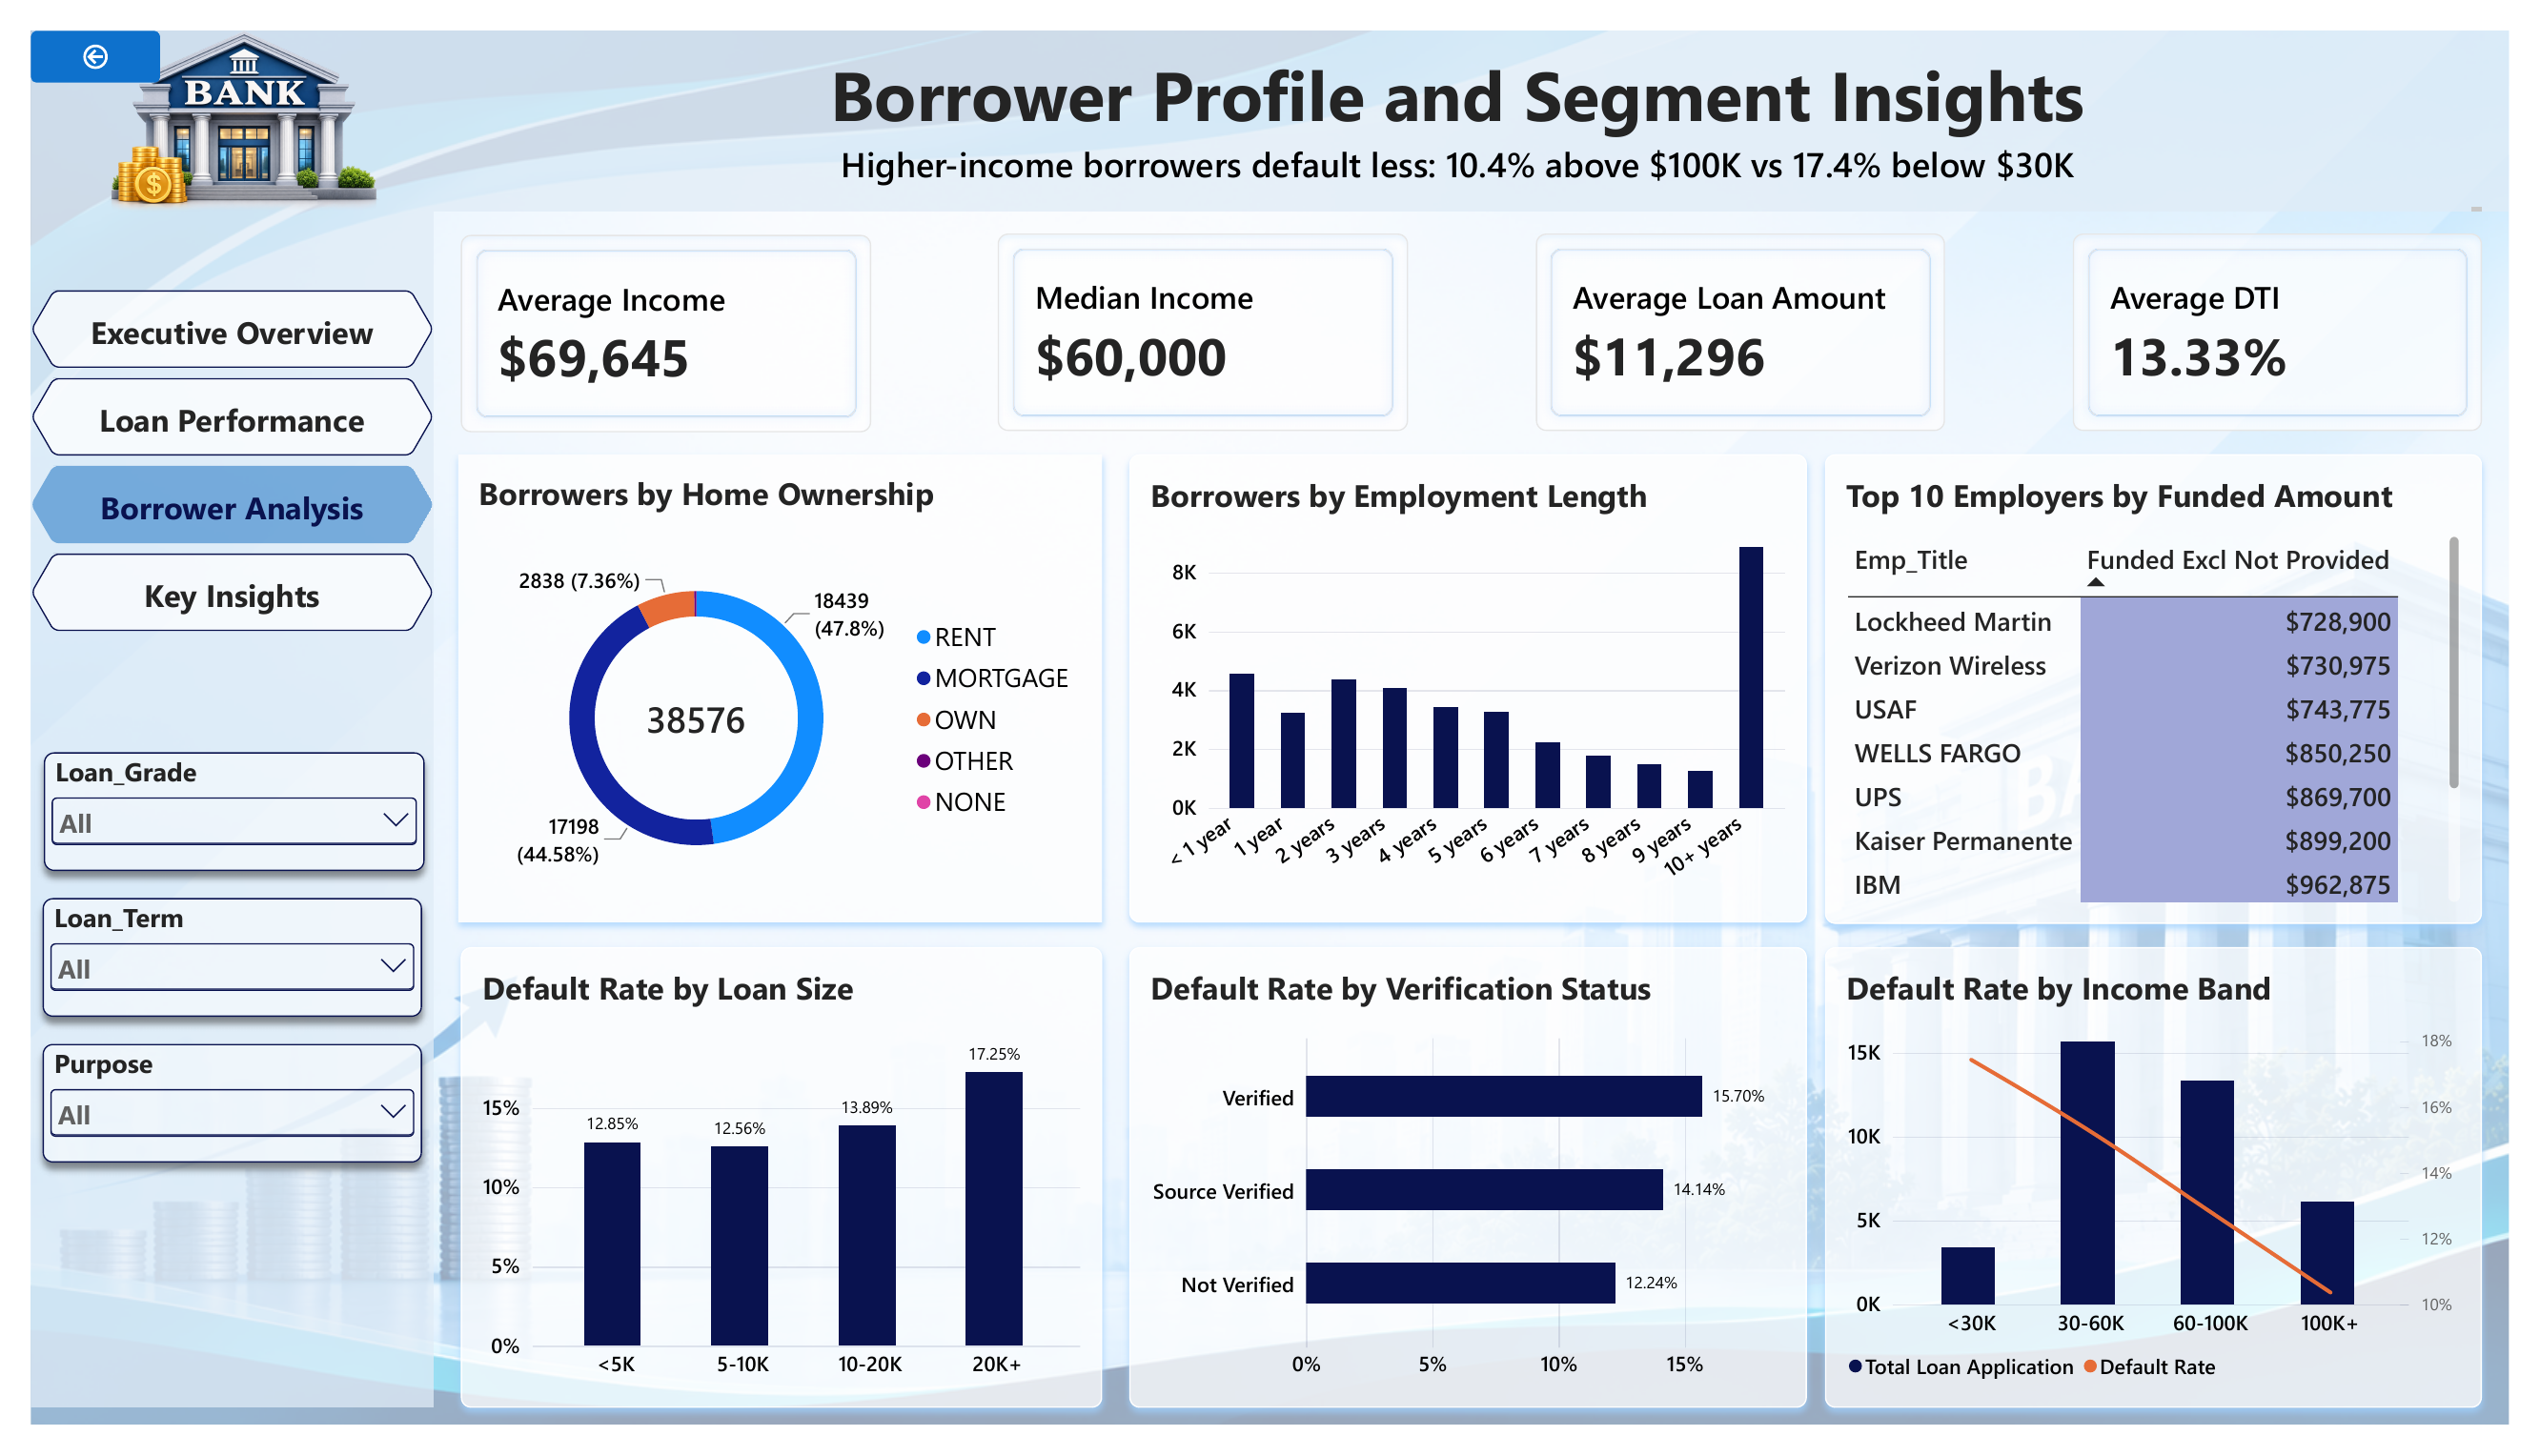

The dashboard page shown, as its layout file describes it:
{"tool":"powerbi","page":{"name":"Borrower Analysis","canvas":[1920,1080],"ordinal":2},"visuals":[{"type":"shape","box":[0,0,1920.4,139.5],"z":0},{"type":"shape","box":[0,139.5,312.2,927.9],"z":1000},{"type":"image","box":[26.2,0,277.3,139.5],"z":5000},{"type":"textbox","title":"Borrower Profile and Segment Insights","box":[312.2,12.2,1587.2,127.3],"z":6000},{"type":"pageNavigator","box":[0,200.6,312.2,266.9],"z":7000},{"type":"cardVisual","fields":{"Data":["Bank_Loan.Average Income"]},"box":[333.1,157.6,317.4,153.5],"z":8000},{"type":"cardVisual","fields":{"Data":["Bank_Loan.Median Income"]},"box":[749.4,157,317.4,153.5],"z":9000},{"type":"cardVisual","fields":{"Data":["Bank_Loan.Average Loan Amount"]},"box":[1165.7,157,317.4,153.5],"z":10000},{"type":"cardVisual","fields":{"Data":["Bank_Loan.Average DTI"]},"box":[1582,157,317.4,153.5],"z":11000},{"type":"lineClusteredColumnComboChart","title":"Default Rate by Income Band","fields":{"Category":["Bank_Loan.Income Band"],"Y":["Bank_Loan.Total Loan Application"],"Y2":["Bank_Loan.Default Rate"]},"box":[1390.1,709.9,509.3,357.6],"z":12000},{"type":"tableEx","title":"Top 10 Employers by Funded Amount","fields":{"Values":["Bank_Loan.Emp_Title","Bank_Loan.Funded Excl Not Provided"]},"box":[1390.1,327.9,509.3,364.5],"z":13000},{"type":"clusteredColumnChart","title":"Borrowers by Employment Length","fields":{"Category":["Bank_Loan.Emp Length Label"],"Y":["CountNonNull(Bank_Loan.Total_Accounts)"]},"box":[851.2,327.9,525,362.8],"z":14000},{"type":"clusteredBarChart","title":"Default Rate by Verification Status","fields":{"Category":["Bank_Loan.Verification_Status"],"Y":["Bank_Loan.Default Rate"]},"box":[851.2,709.9,525,357.6],"z":15000},{"type":"clusteredColumnChart","title":"Default Rate by Loan Size","fields":{"Category":["Bank_Loan.Loan Size Band"],"Y":["Bank_Loan.Default Rate"]},"box":[333.1,709.9,497.1,357.6],"z":16000},{"type":"actionButton","box":[0,0,100,40],"z":17000},{"type":"donutChart","title":"Borrowers by Home Ownership","fields":{"Category":["Bank_Loan.Home_Ownership"],"Y":["CountNonNull(Bank_Loan.Total_Accounts)"]},"box":[331.4,327.9,498.8,362.8],"z":18000},{"type":"slicer","fields":{"Values":["Bank_Loan.Loan_Term"]},"box":[8.7,671.5,294.8,92.4],"z":18001},{"type":"slicer","fields":{"Values":["Bank_Loan.Purpose"]},"box":[8.7,784.9,294.8,92.4],"z":18002},{"type":"slicer","fields":{"Values":["Bank_Loan.Loan_Grade"]},"box":[9.7,558.6,294.8,92.4],"z":18003}]}

Visuals, with their boxes in screenshot pixels (x1, y1, x2, y2), scaled from the page's 1920x1080 canvas onto the 2540x1456 screenshot:
shape: {"left": 0, "top": 0, "right": 2539, "bottom": 188}
shape: {"left": 0, "top": 188, "right": 413, "bottom": 1439}
image: {"left": 34, "top": 0, "right": 401, "bottom": 188}
"Borrower Profile and Segment Insights" textbox: {"left": 413, "top": 16, "right": 2512, "bottom": 188}
pageNavigator: {"left": 0, "top": 271, "right": 413, "bottom": 630}
cardVisual - Bank_Loan.Average Income: {"left": 440, "top": 212, "right": 861, "bottom": 419}
cardVisual - Bank_Loan.Median Income: {"left": 991, "top": 212, "right": 1412, "bottom": 418}
cardVisual - Bank_Loan.Average Loan Amount: {"left": 1542, "top": 212, "right": 1962, "bottom": 418}
cardVisual - Bank_Loan.Average DTI: {"left": 2093, "top": 212, "right": 2512, "bottom": 418}
"Default Rate by Income Band" lineClusteredColumnComboChart: {"left": 1839, "top": 957, "right": 2512, "bottom": 1439}
"Top 10 Employers by Funded Amount" tableEx: {"left": 1839, "top": 442, "right": 2512, "bottom": 934}
"Borrowers by Employment Length" clusteredColumnChart: {"left": 1126, "top": 442, "right": 1820, "bottom": 931}
"Default Rate by Verification Status" clusteredBarChart: {"left": 1126, "top": 957, "right": 1820, "bottom": 1439}
"Default Rate by Loan Size" clusteredColumnChart: {"left": 440, "top": 957, "right": 1098, "bottom": 1439}
actionButton: {"left": 0, "top": 0, "right": 132, "bottom": 54}
"Borrowers by Home Ownership" donutChart: {"left": 438, "top": 442, "right": 1098, "bottom": 931}
slicer - Bank_Loan.Loan_Term: {"left": 11, "top": 905, "right": 401, "bottom": 1030}
slicer - Bank_Loan.Purpose: {"left": 11, "top": 1058, "right": 401, "bottom": 1183}
slicer - Bank_Loan.Loan_Grade: {"left": 12, "top": 753, "right": 403, "bottom": 878}
